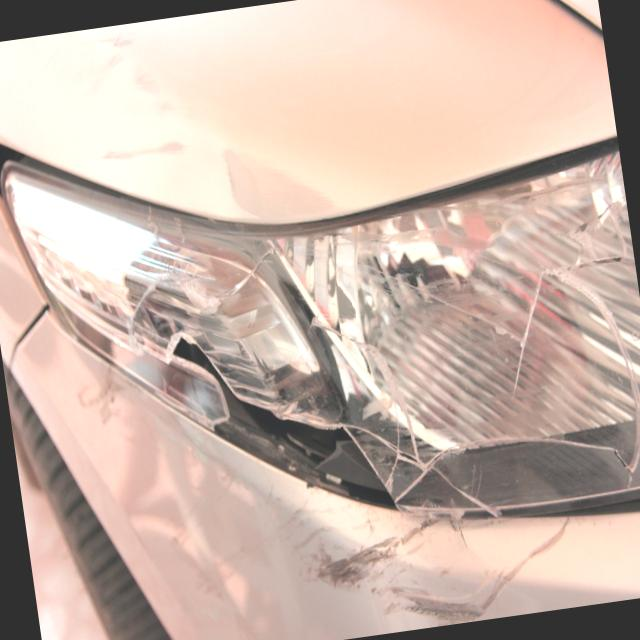Phare abime: (128, 222, 499, 557)
Rayure: (257, 437, 593, 640), (67, 362, 138, 447)
